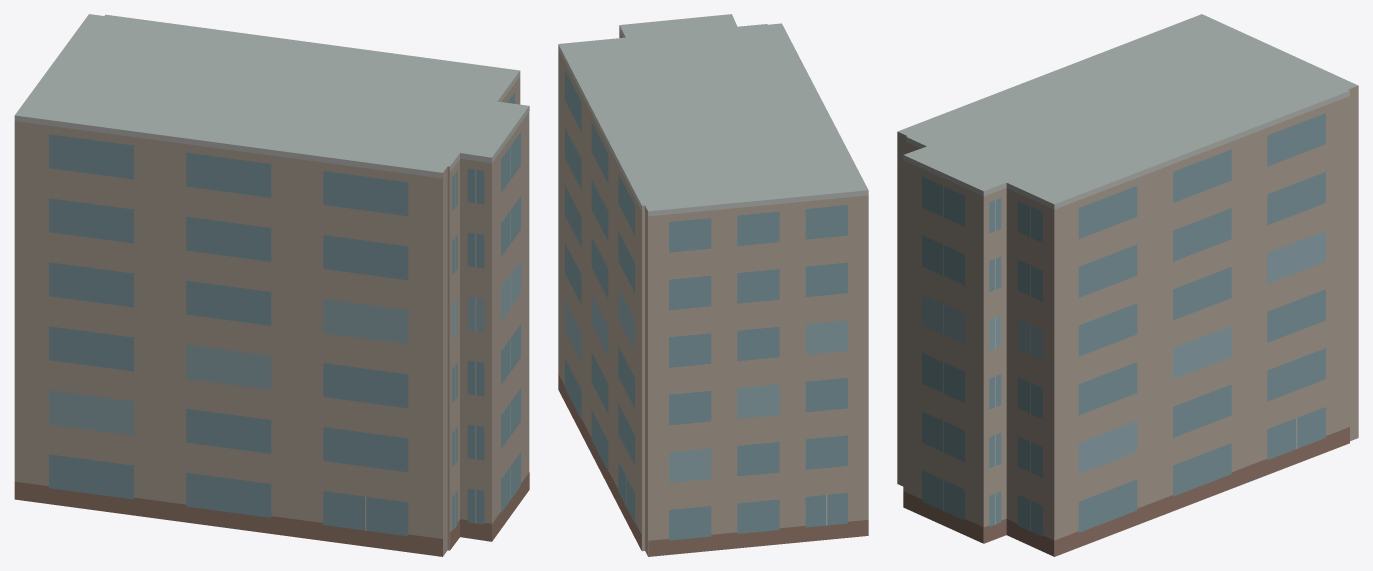
Rendered from survey-upis-32581928.glb.
3 views of the same model, side by side, from view 1: azimuth 30°, elevation 25°; view 2: azimuth 150°, elevation 25°; view 3: azimuth 270°, elevation 25° (orthographic). The views are drawn at different scales.
Parts seen in each view (by area): view 1: survey-upis-32581928.tmp; view 2: survey-upis-32581928.tmp; view 3: survey-upis-32581928.tmp.
Boxes of the visible parts, left/top/right/bottom form: survey-upis-32581928.tmp: left=14, top=14, right=529, bottom=556; survey-upis-32581928.tmp: left=558, top=14, right=868, bottom=556; survey-upis-32581928.tmp: left=897, top=14, right=1358, bottom=556.
Bounding box in the file's own units: 19.19 × 16.55 × 19.63.
